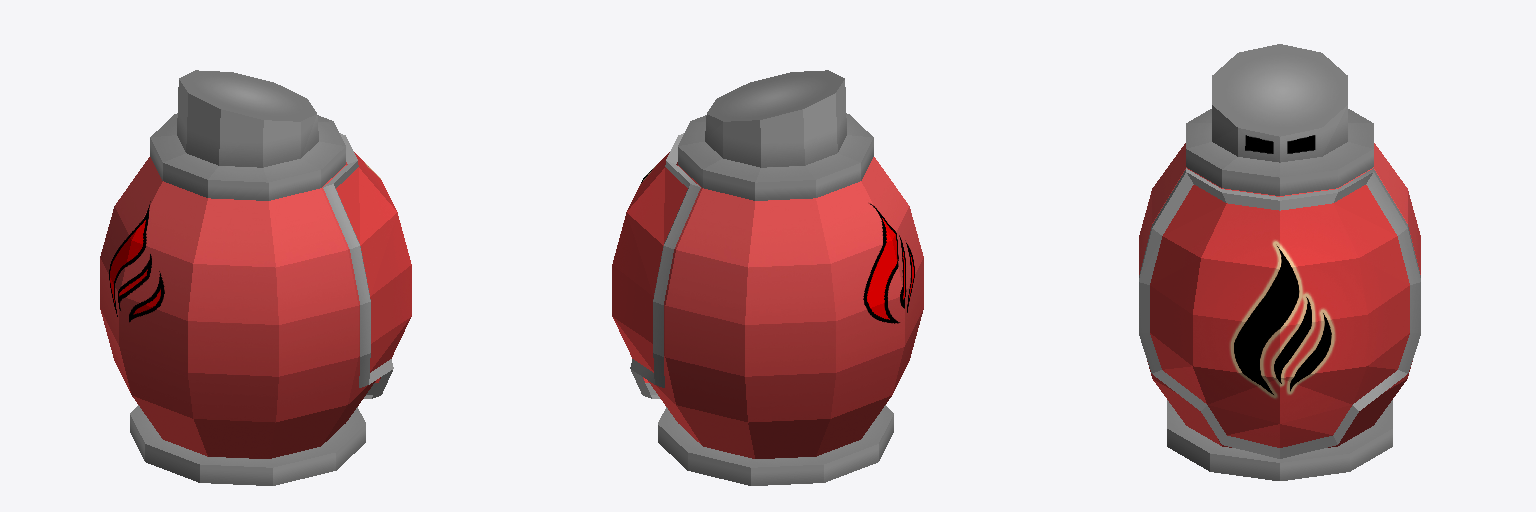
3 renders of one model, left to right at view 1: azimuth 30°, elevation 25°; view 2: azimuth 150°, elevation 25°; view 3: azimuth 270°, elevation 25°, orthographic.
Visible parts, largest first — view 1: Cylinder001, Object001; view 2: Cylinder001, Object001; view 3: Object001, Cylinder001.
Boxes of the visible parts, x1=… form: Cylinder001: x1=100, y1=70, x2=375, y2=485; Object001: x1=323, y1=133, x2=411, y2=398; Cylinder001: x1=648, y1=70, x2=923, y2=485; Object001: x1=612, y1=133, x2=700, y2=398; Object001: x1=1139, y1=168, x2=1420, y2=458; Cylinder001: x1=1139, y1=44, x2=1420, y2=480.
Bounding box in the file's own units: 0.7752 × 0.9711 × 0.6946.
Materials: 2 (2 with a texture image).